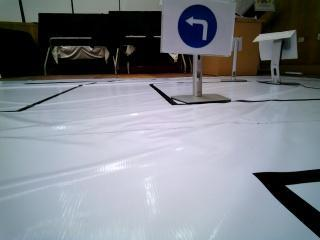left: (169, 0, 232, 57)
